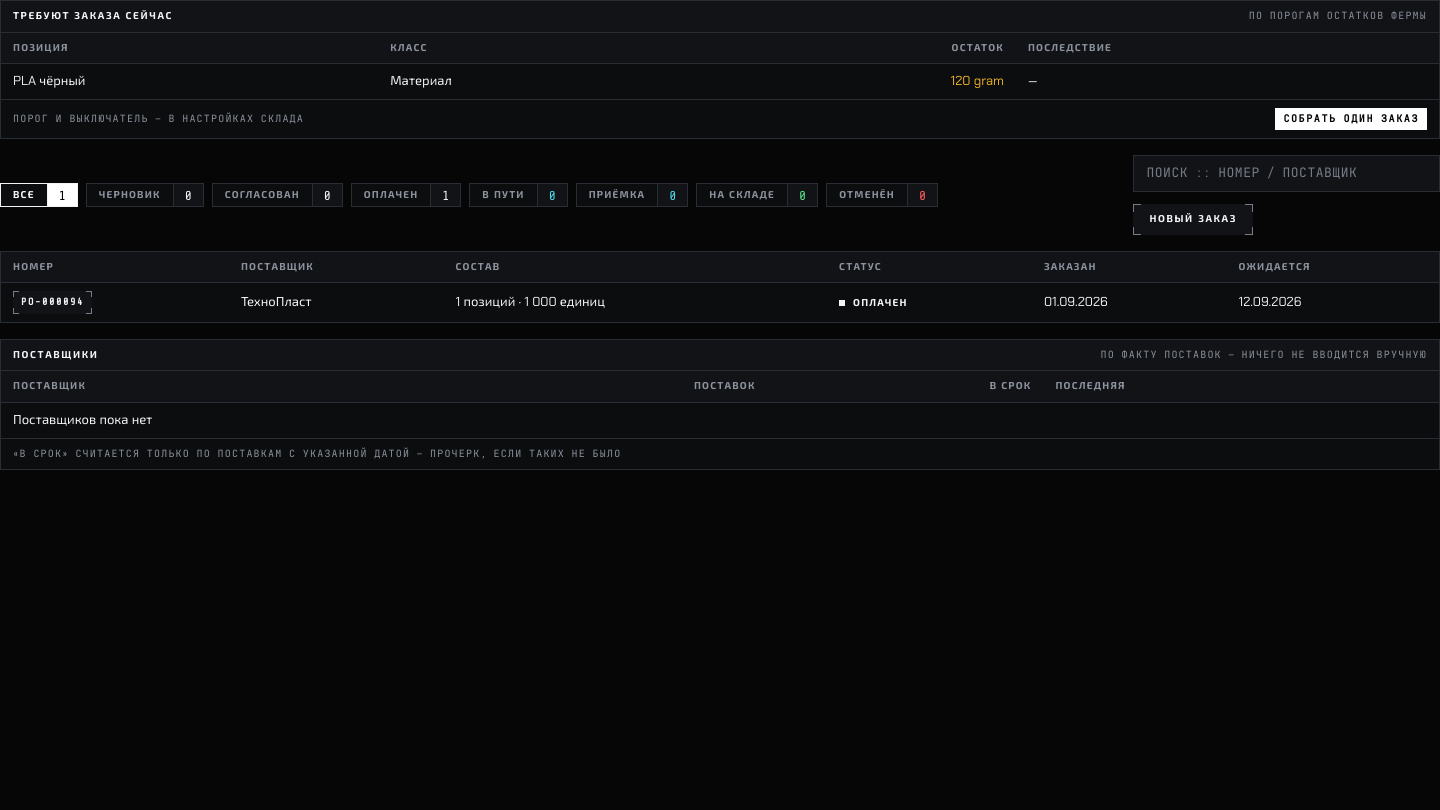
the money split › never requests /costs for a manager without view_financials
Click the button "PO-000094": x=52, y=302 [13,291,92,314]
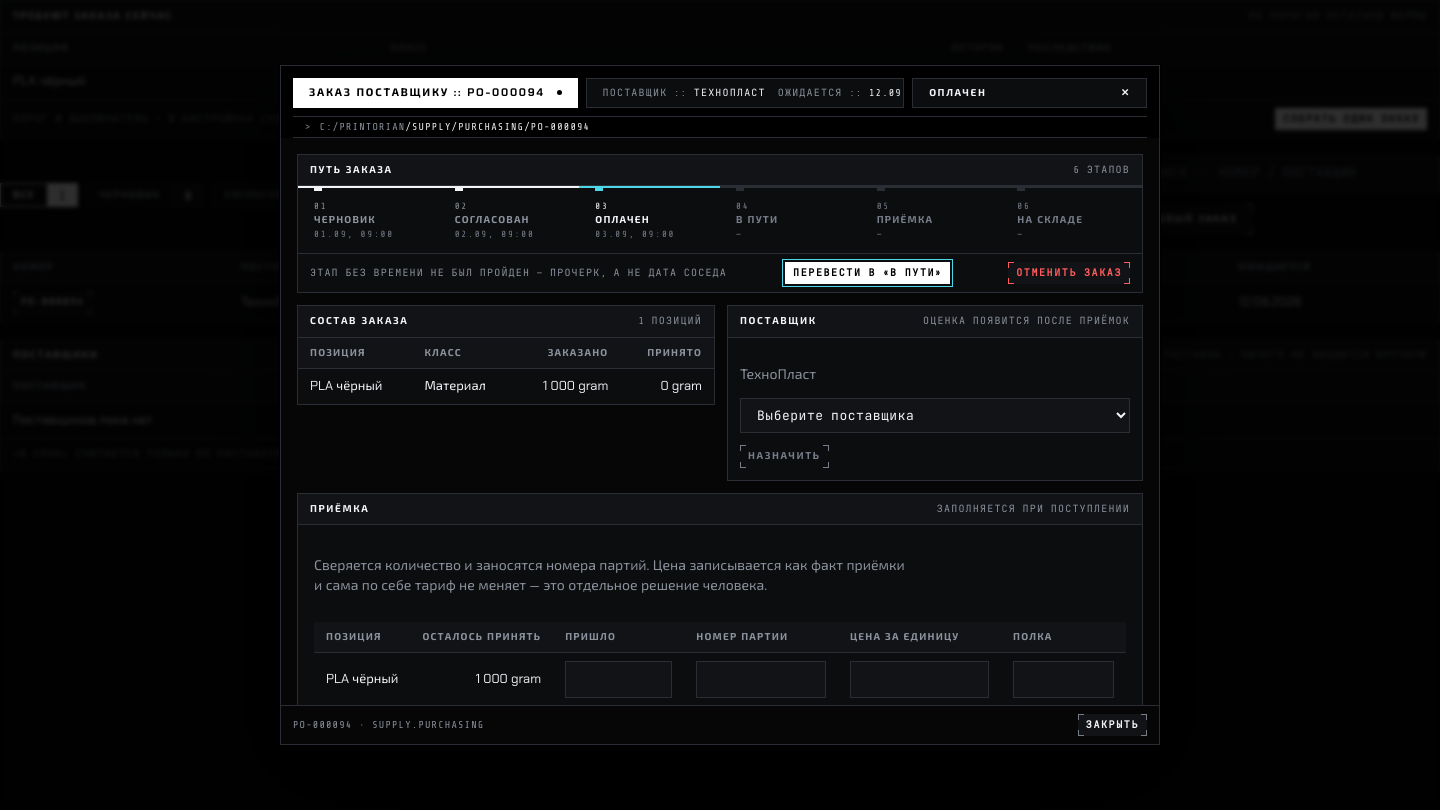
Check: the text "Путь заказа" is shown, box [310,163,393,177]
